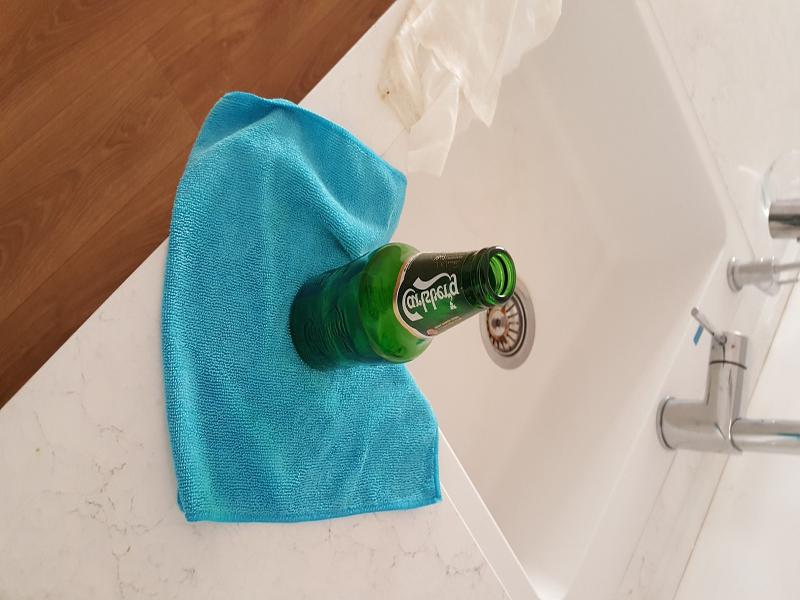Beer: (286, 241, 512, 367)
